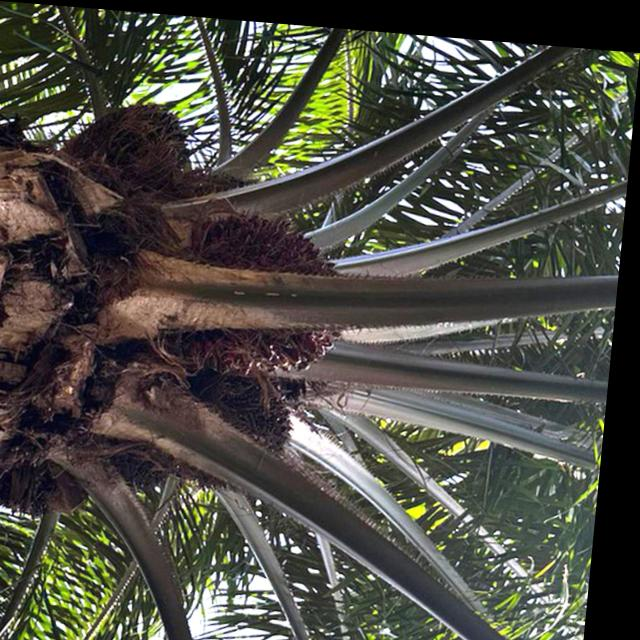ripe: (179, 197, 373, 371), (154, 349, 310, 499), (76, 90, 206, 200), (9, 438, 113, 524)
